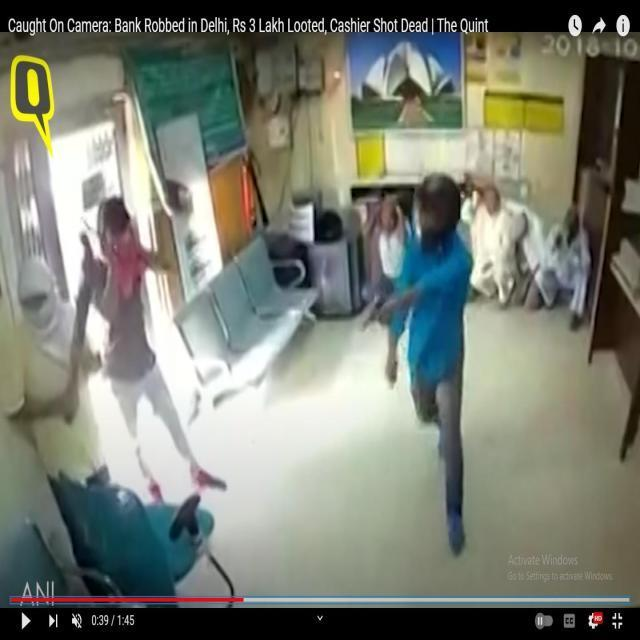weapon: (59, 232, 95, 418), (364, 289, 394, 336)
